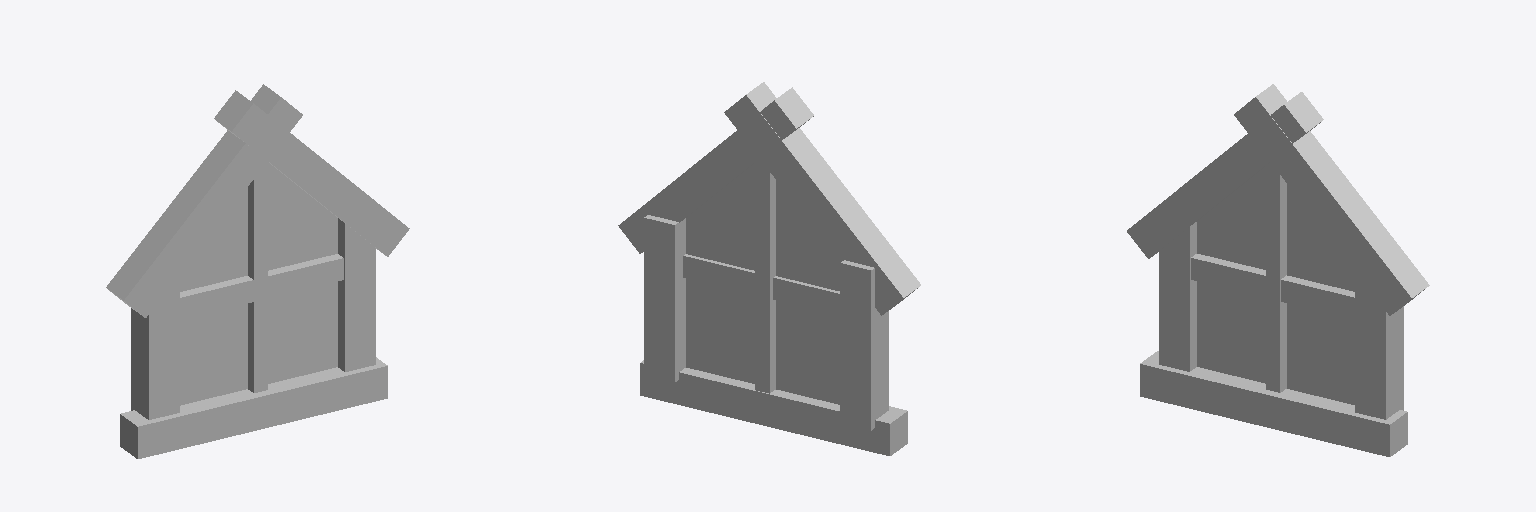
The model's file is WindowTriangle.obj.
The picture shows the model from 3 angles: view 1: azimuth 30°, elevation 25°; view 2: azimuth 150°, elevation 25°; view 3: azimuth 330°, elevation 25°; orthographic projection.
Parts seen in each view (by area): view 1: WindowTriangle; view 2: WindowTriangle; view 3: WindowTriangle.
Boxes of the visible parts, x1,y1,x2,y2 form: WindowTriangle: [106, 84, 409, 458]; WindowTriangle: [618, 82, 920, 455]; WindowTriangle: [1127, 84, 1429, 456].
Size of the model in its own units: 2.35 by 2.58 by 0.313.